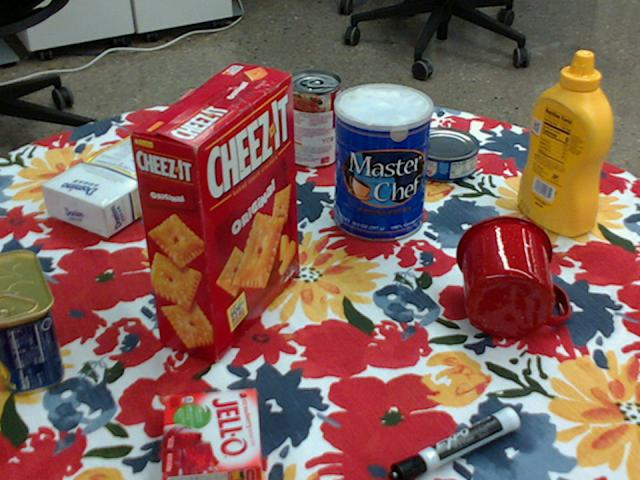cracker_box: (125, 63, 294, 361)
gelatin_box: (166, 388, 265, 479)
large_marker: (391, 406, 522, 479)
master_chef_can: (334, 83, 433, 242)
mug: (454, 214, 570, 338)
mustard_bottle: (515, 52, 611, 237)
potted_meat_can: (0, 249, 63, 393)
sugar_box: (41, 126, 206, 238)
tomato_soup_can: (285, 70, 341, 168)
tuna_fish_can: (410, 128, 481, 183)
